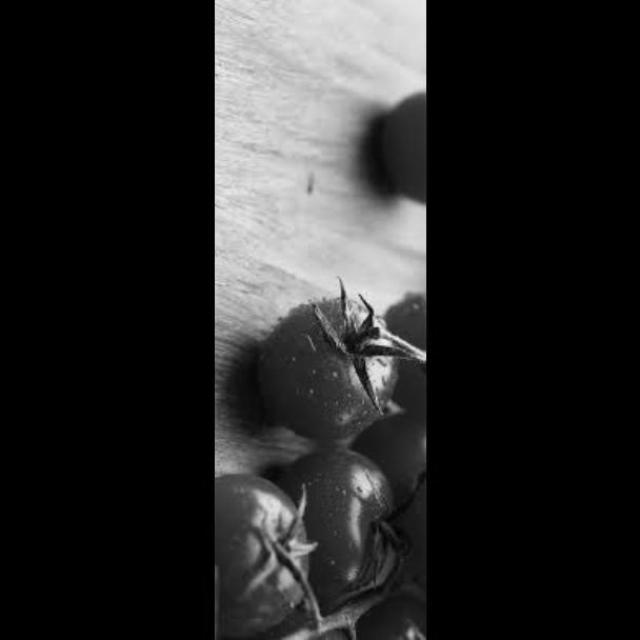ca chua: (250, 292, 403, 445), (268, 448, 406, 606), (215, 472, 311, 628), (373, 420, 427, 567), (374, 283, 426, 431), (373, 82, 427, 215), (278, 593, 370, 639), (354, 582, 427, 639)
